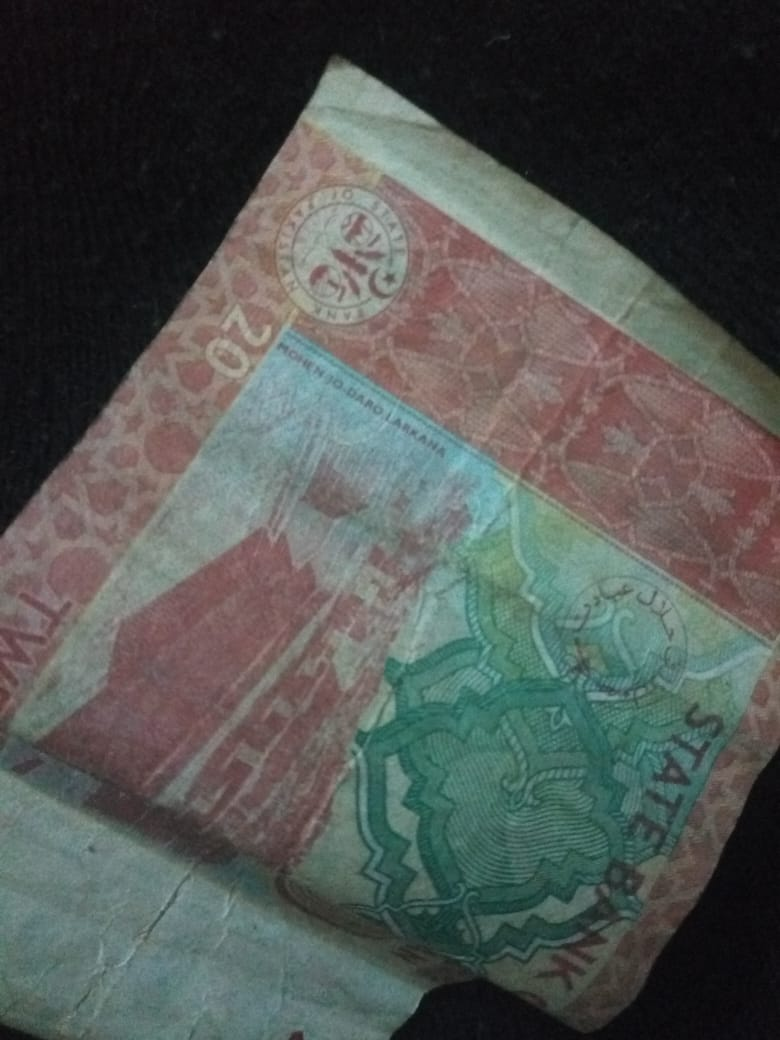20 rupee: (25, 42, 771, 1000)
